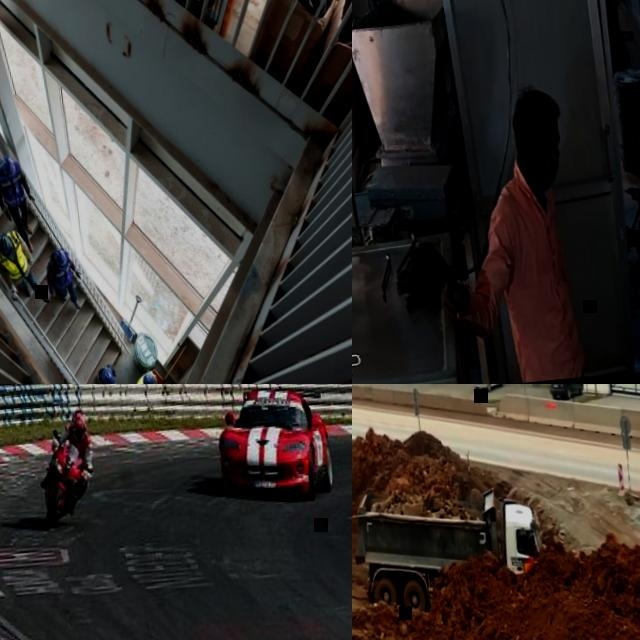Hardhat: (70, 410, 86, 439), (0, 154, 15, 179), (53, 247, 68, 269), (0, 231, 12, 257), (100, 367, 114, 384), (141, 372, 154, 384)
Mask: (543, 147, 561, 185)
NO-Hardhat: (508, 83, 561, 130)
NO-Safety Vest: (491, 177, 585, 381), (67, 428, 91, 461)
Person: (414, 80, 585, 384), (58, 407, 99, 510), (0, 152, 40, 254), (0, 226, 50, 307), (43, 246, 85, 311), (94, 363, 119, 384), (131, 368, 160, 384)
Safety Cone: (544, 399, 556, 408)
Safety Vest: (0, 227, 28, 279), (0, 158, 25, 207), (47, 248, 71, 285), (131, 369, 158, 384)
machinery: (352, 467, 549, 619)
vehicle: (209, 384, 336, 509), (469, 384, 504, 392)
